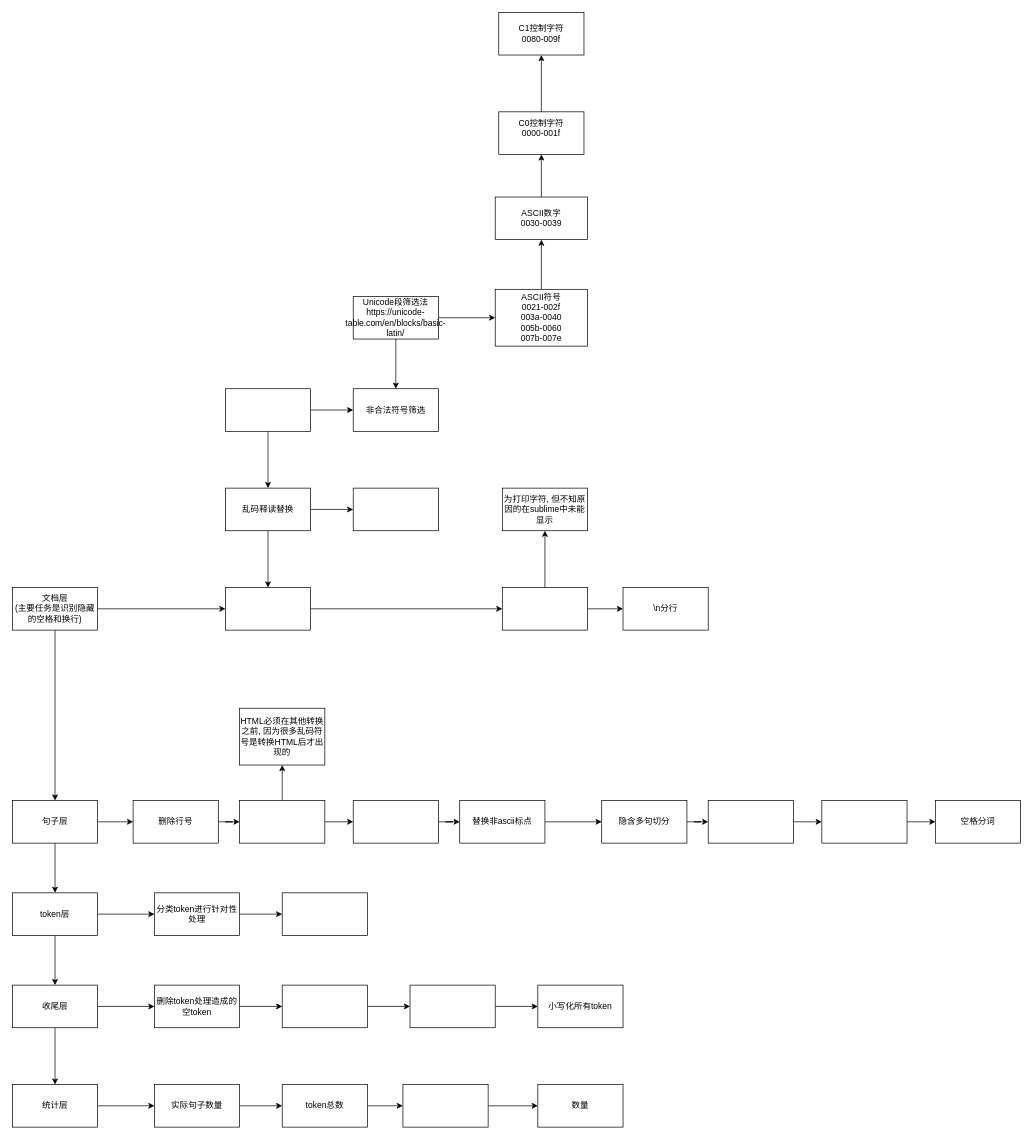
Image size: 1033x1140. Some labels were removed from this diagram. The centre of each missing label's shape, as x and y in pixels:
"HTML实体替换" goes at point 282,821.
"不可显示字符替换" goes at point 545,608.
"乱码(包括非打印字符)替换" goes at point 268,608.
"二次乱码替换" goes at point 395,821.
"入列token的检查" goes at point 452,1006.
"删除token处理造成的空行" goes at point 324,1006.
"删除多余空格" goes at point 864,821.
"删除空行" goes at point 750,821.
"各类token数量" goes at point 445,1105.
"手动编辑对照表" goes at point 395,509.
"潜在乱码发现" goes at point 268,409.
"记录包含非法字符的token" goes at point 324,913.
